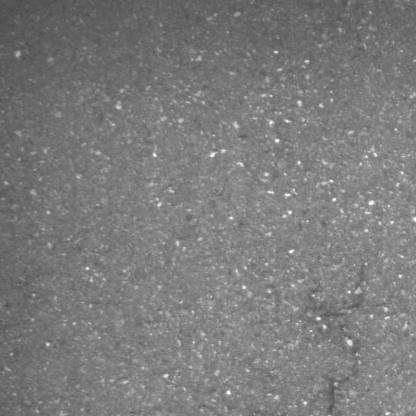Cracks: (320, 347, 364, 416)
